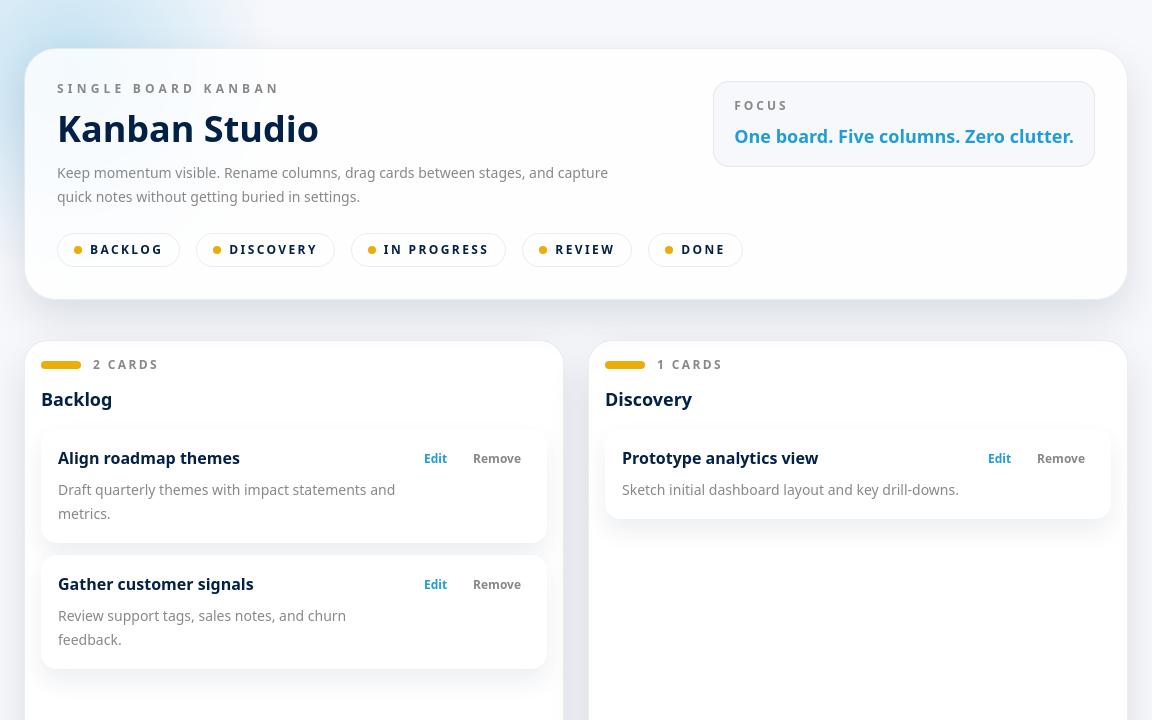
Scenario: KanbanBoard › edits an existing card
This screenshot has width=1152, height=720.
Click the button with aria-label "edit align roadmap themes" at point(436, 459), box [415, 446, 456, 472]
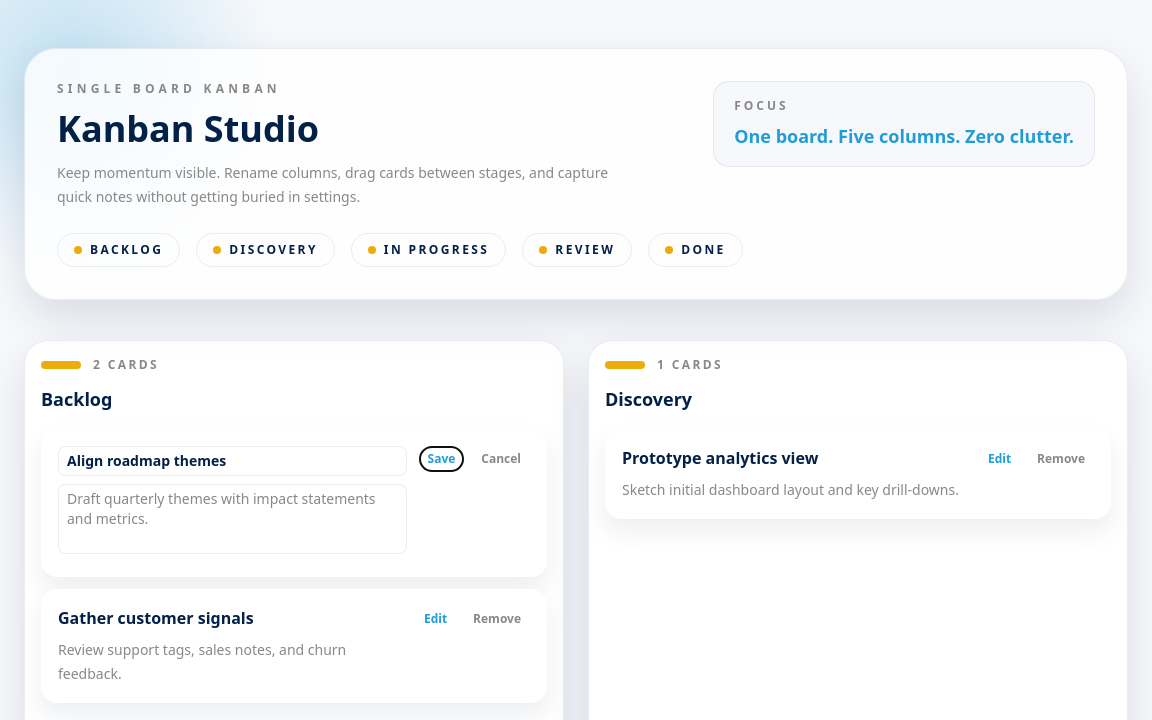
Replace the text in the field named "Card title" with "Updated roadmap" at point(232, 461), box [58, 446, 406, 476]
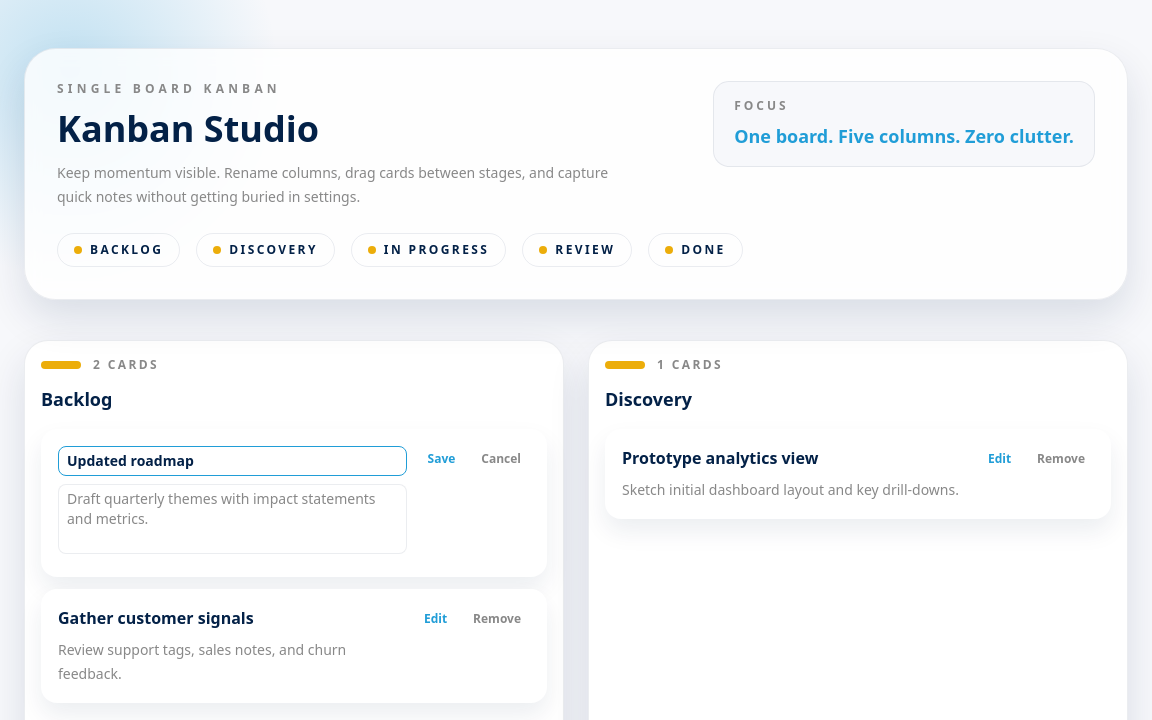
Replace the text in the text box named "Card details" with "Updated details." at point(232, 519), box [58, 484, 406, 554]
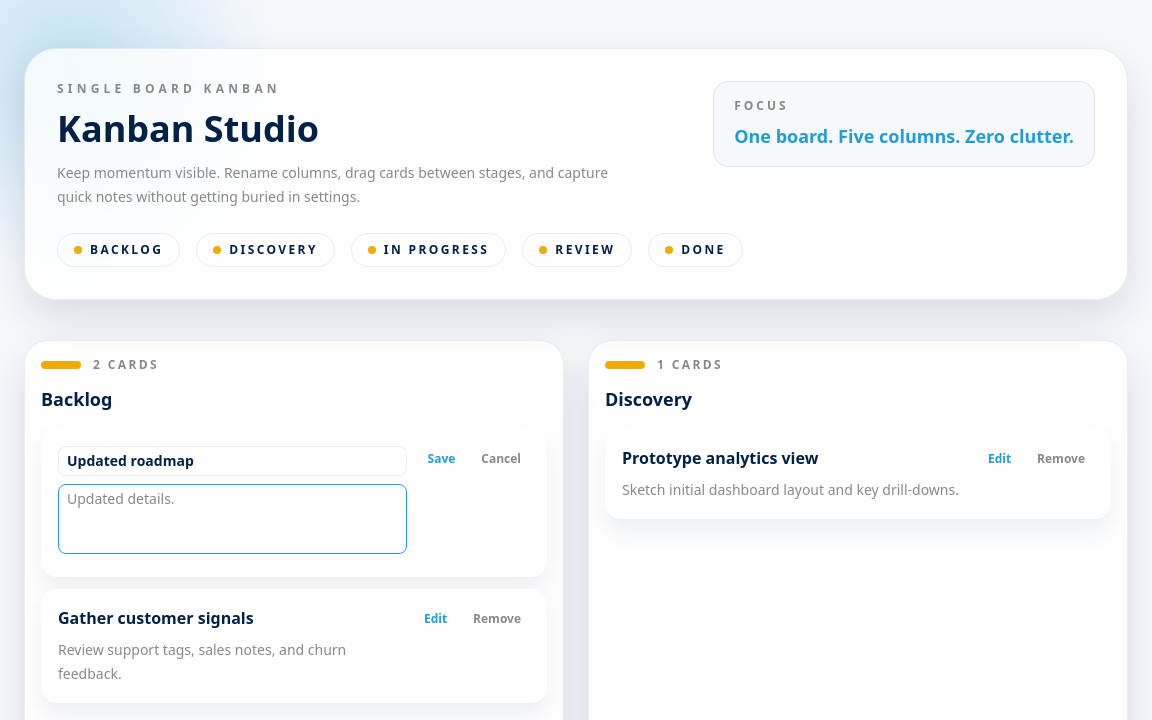
Click the button "Save" at point(441, 459), box [418, 446, 464, 472]
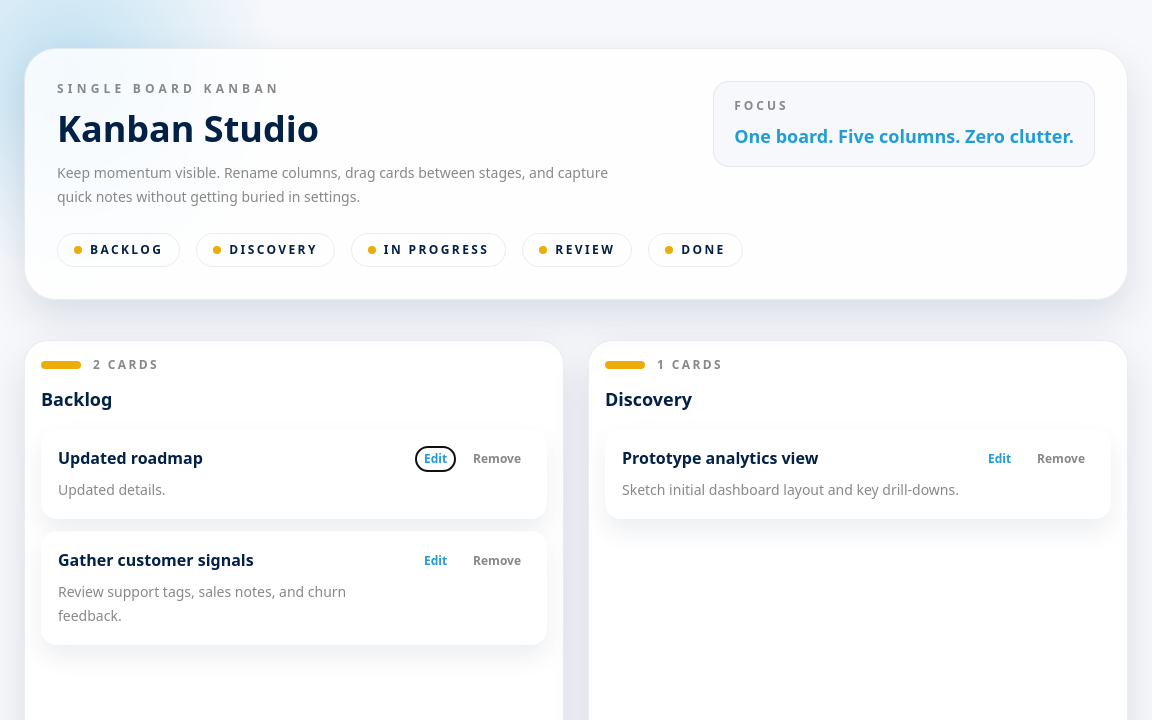
Expected: the heading "Updated roadmap" is shown, [58, 446, 203, 470]
Expected: the text "Updated details." is shown, [58, 480, 166, 499]
